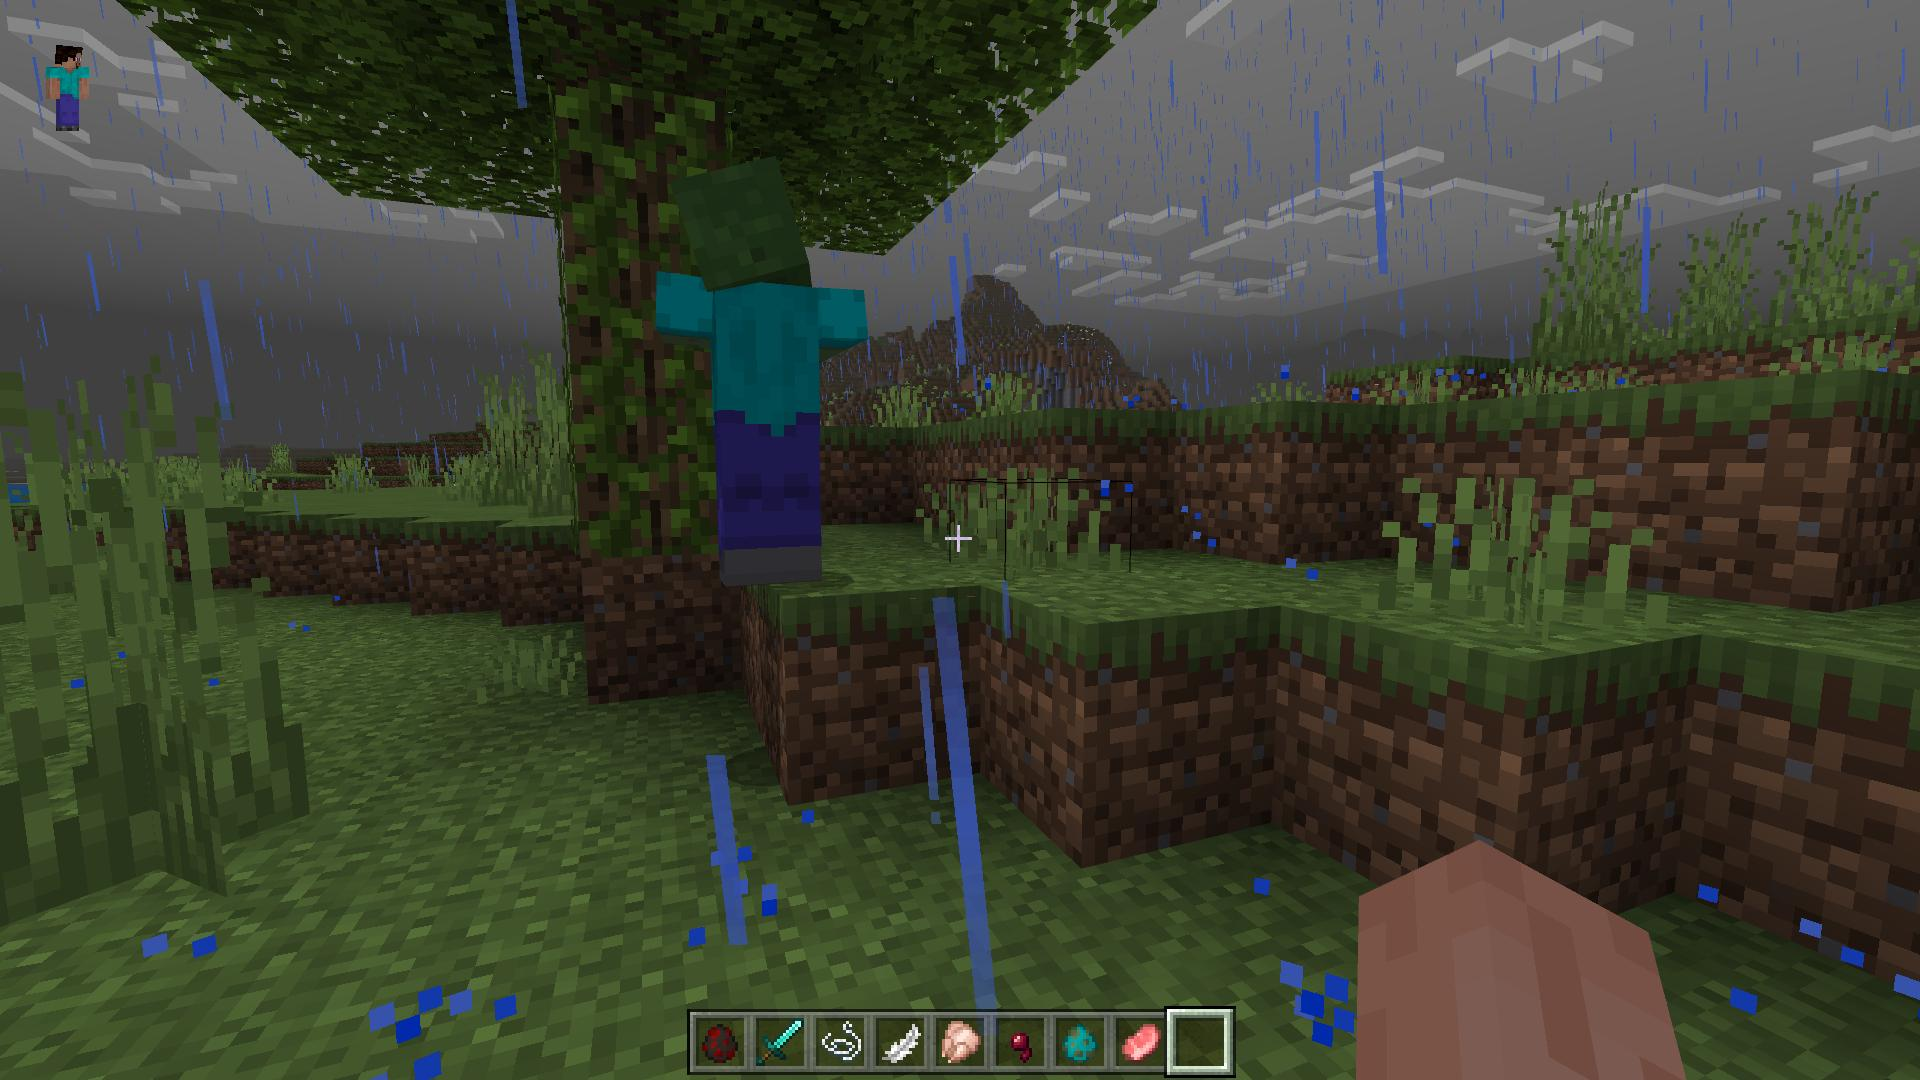zombie: (658, 162, 873, 588)
